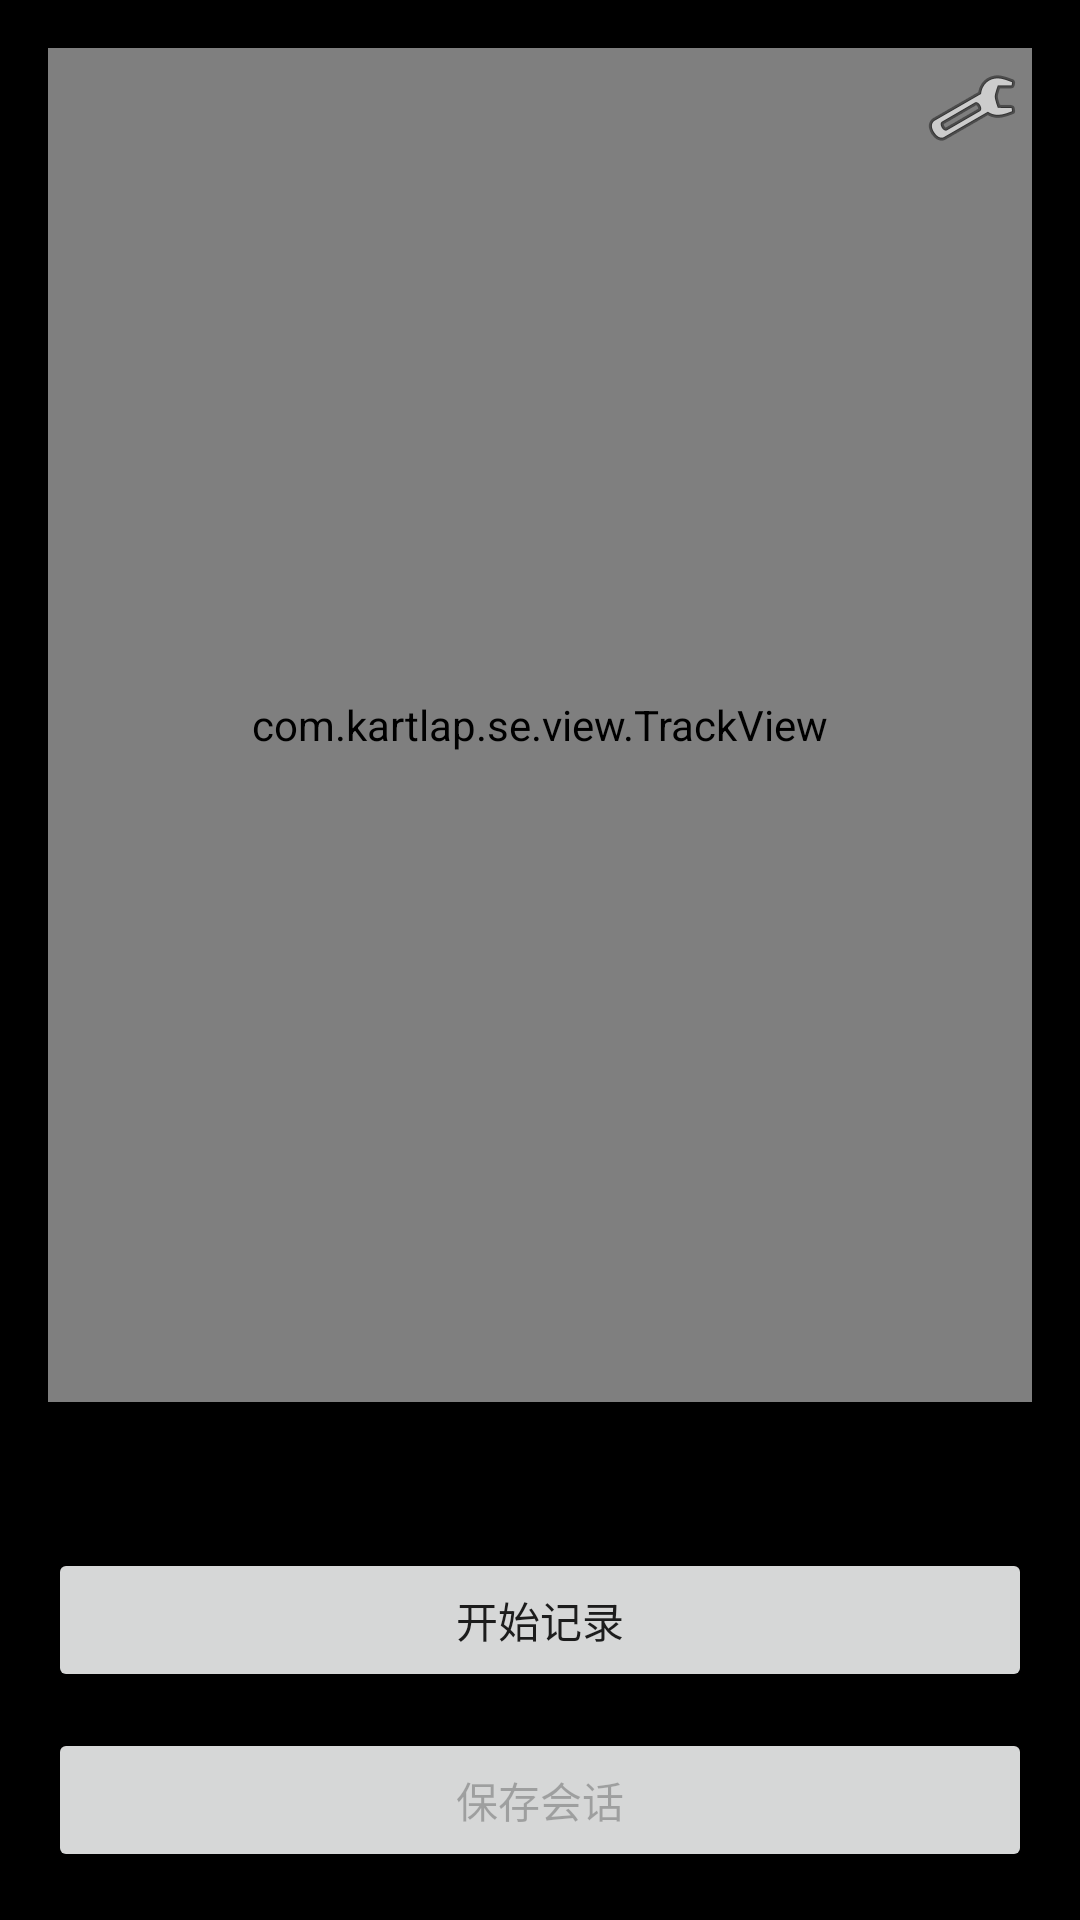

Screen size 1080 x 1920. Icon name, then its box in pixels as (x1, y1, x2, y2):
manage: (929, 75, 1015, 141)
